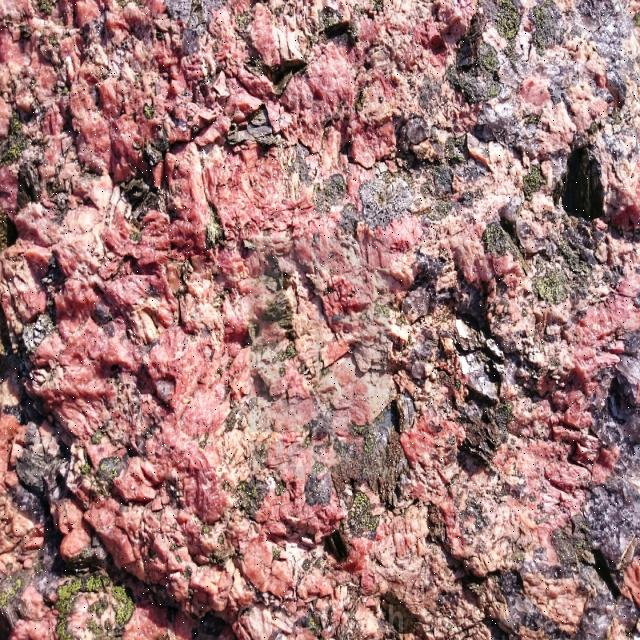Igneous: (1, 1, 636, 634)
